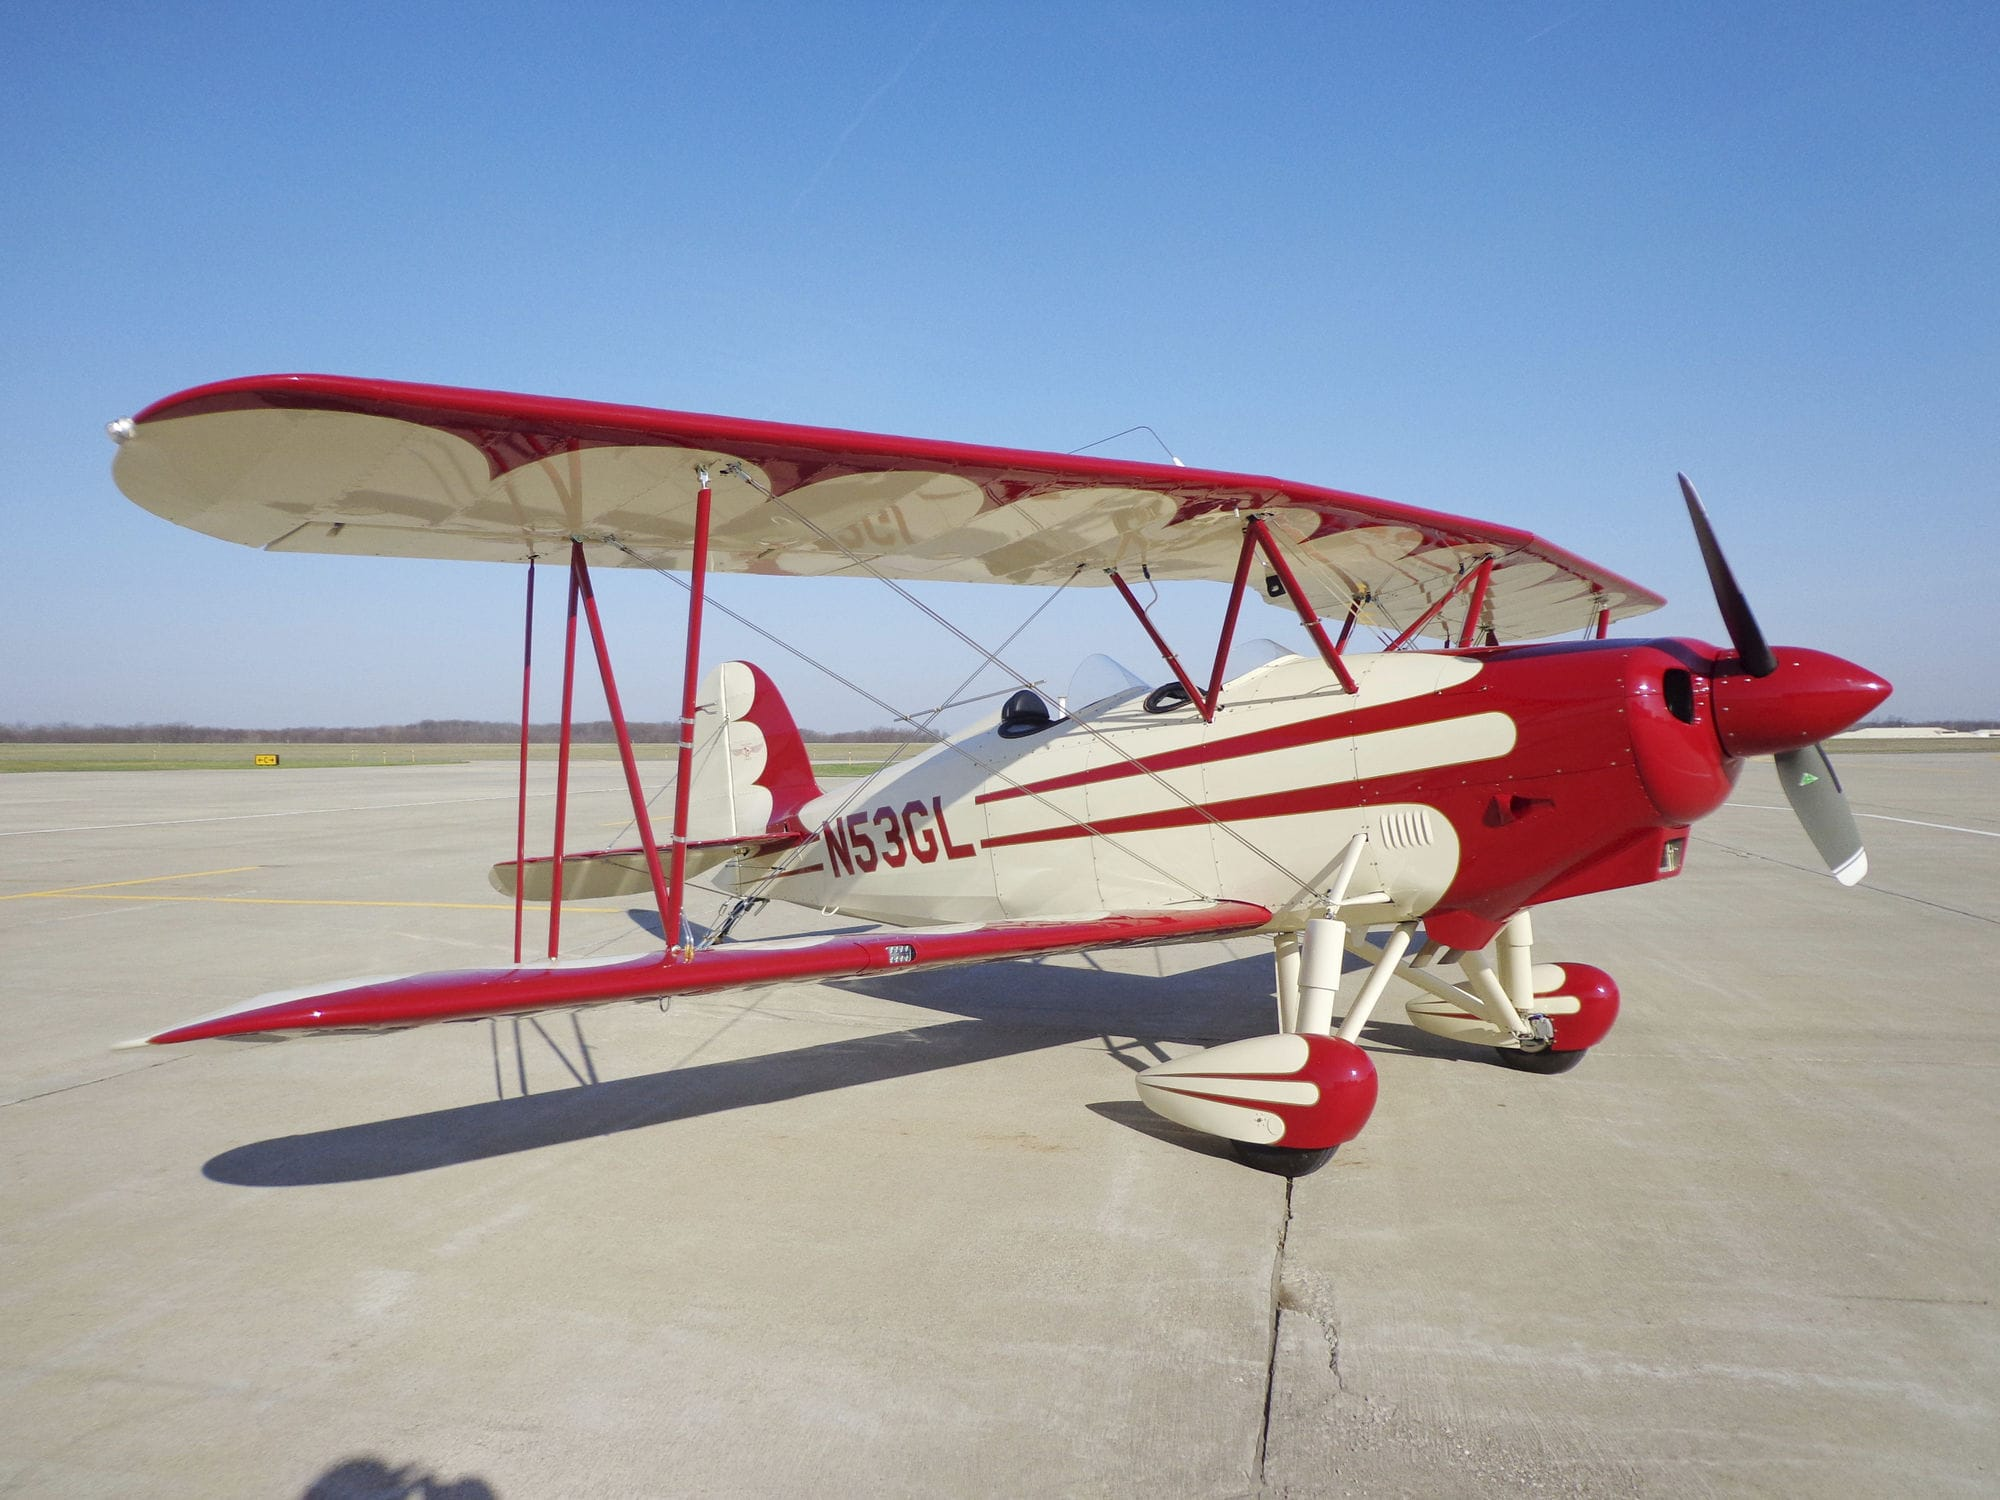Aeronef_de_loisir: (57, 254, 1934, 1270)
